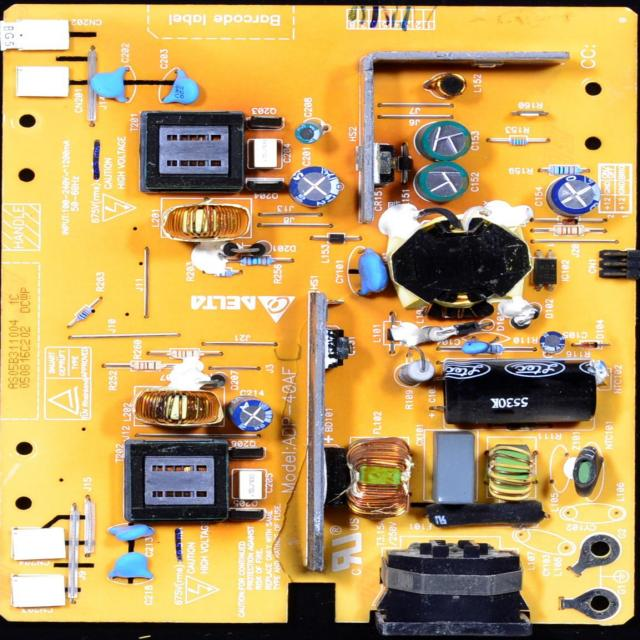Capacitor: (444, 358, 598, 428), (416, 160, 472, 203), (545, 177, 602, 217), (420, 120, 474, 160), (291, 167, 345, 206), (108, 549, 156, 584), (90, 66, 134, 104), (228, 394, 273, 431), (354, 249, 388, 297), (231, 468, 267, 503), (163, 72, 201, 105), (107, 521, 154, 543), (538, 331, 568, 354), (296, 120, 326, 142), (463, 336, 490, 354)
Resistor Network: (395, 353, 441, 392), (548, 219, 592, 239), (240, 250, 283, 270), (130, 356, 166, 376), (169, 344, 205, 363), (545, 163, 590, 178), (458, 344, 506, 358), (502, 132, 538, 149), (72, 305, 98, 323), (208, 269, 242, 280)
Transistor: (227, 442, 270, 463), (248, 111, 284, 132), (226, 508, 267, 524)
